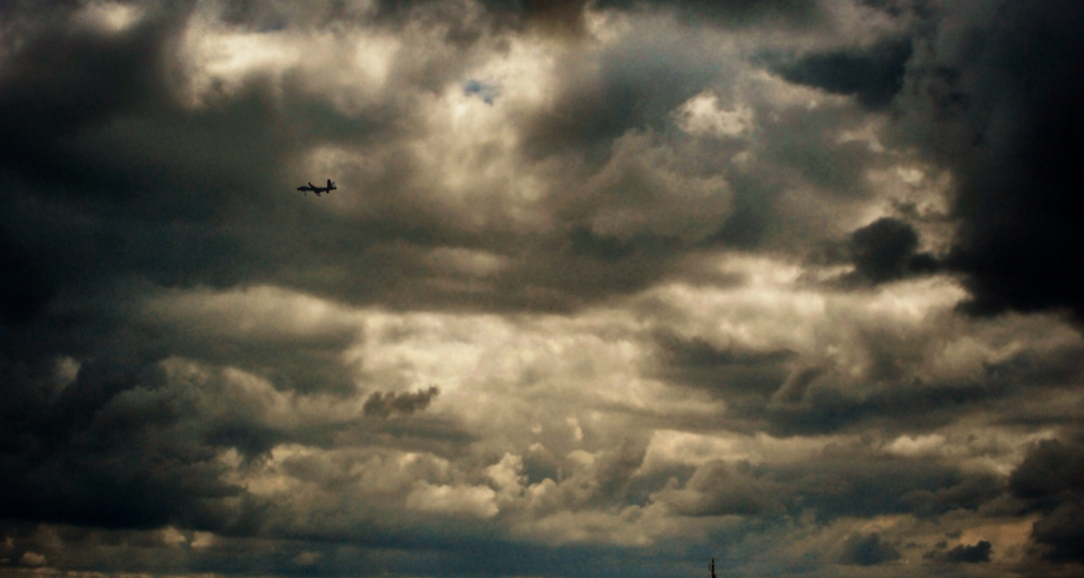military drone: (296, 178, 337, 196)
